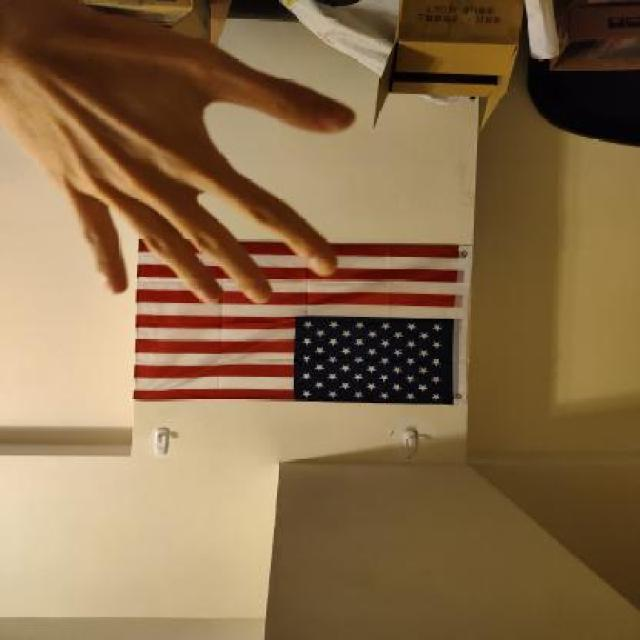bare_hand: (0, 0, 369, 317)
